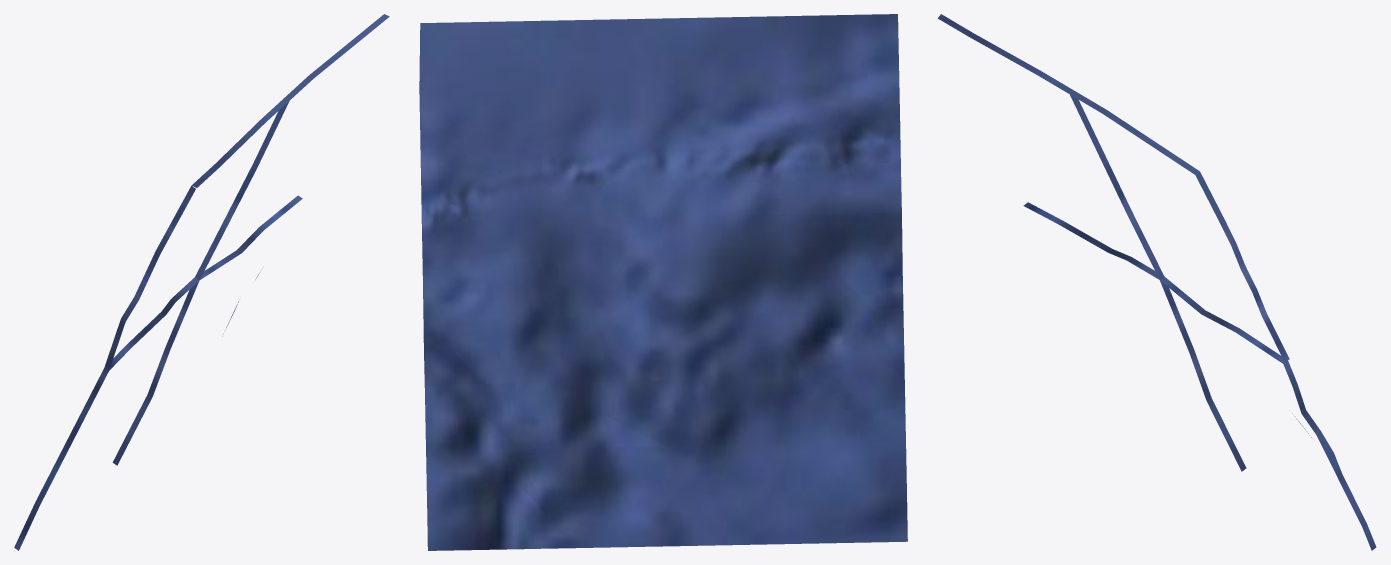
3 renders of one model, left to right at view 1: azimuth 30°, elevation 25°; view 2: azimuth 150°, elevation 25°; view 3: azimuth 270°, elevation 25°, orthographic. The views are drawn at different scales.
Bounding box in the file's own units: 19269 × 18176 × 16900.
Materials: 1 (1 with a texture image).
